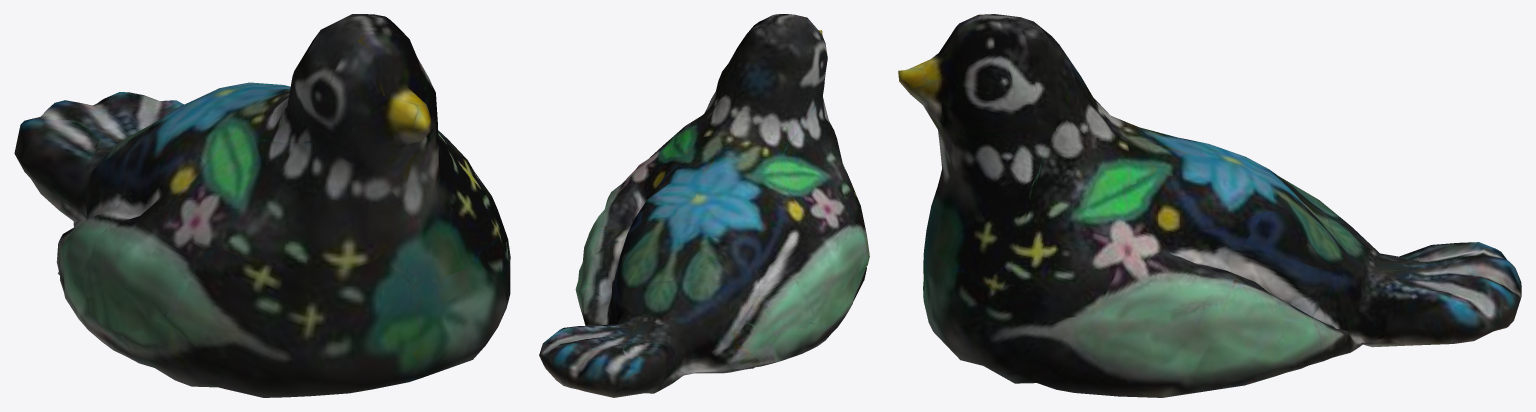
The model's file is hall.glb.
The picture shows the model from 3 angles, left to right: view 1: azimuth 30°, elevation 25°; view 2: azimuth 150°, elevation 25°; view 3: azimuth 270°, elevation 25°; orthographic projection. The views are drawn at different scales.
Bounding box in the file's own units: 0.3459 × 0.3525 × 0.6074.
1 material, 1 textured.
